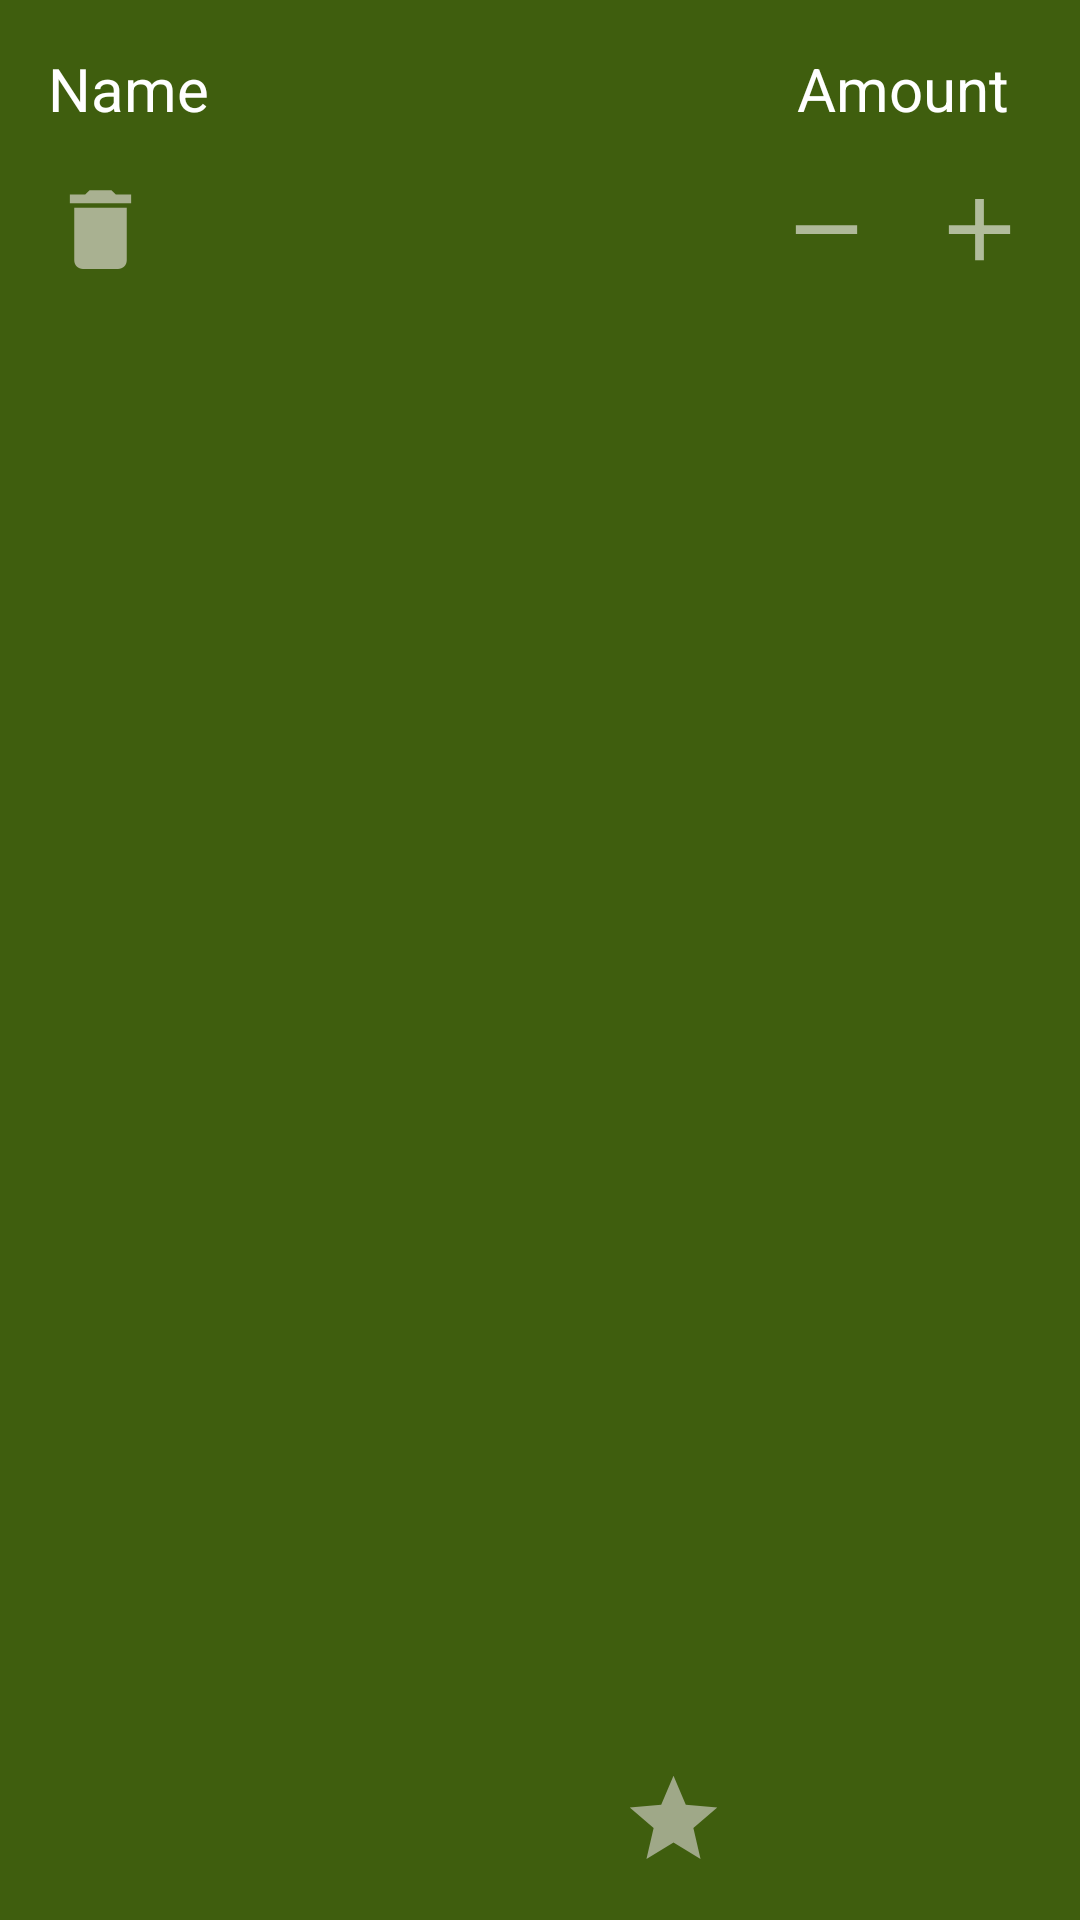

Where icons sit on this 1080 x 1920 app screen, as box=[x1, y1, x2, y2]:
delete: box=[70, 190, 131, 269]
plus: box=[949, 199, 1010, 261]
star: box=[630, 1776, 717, 1859]
